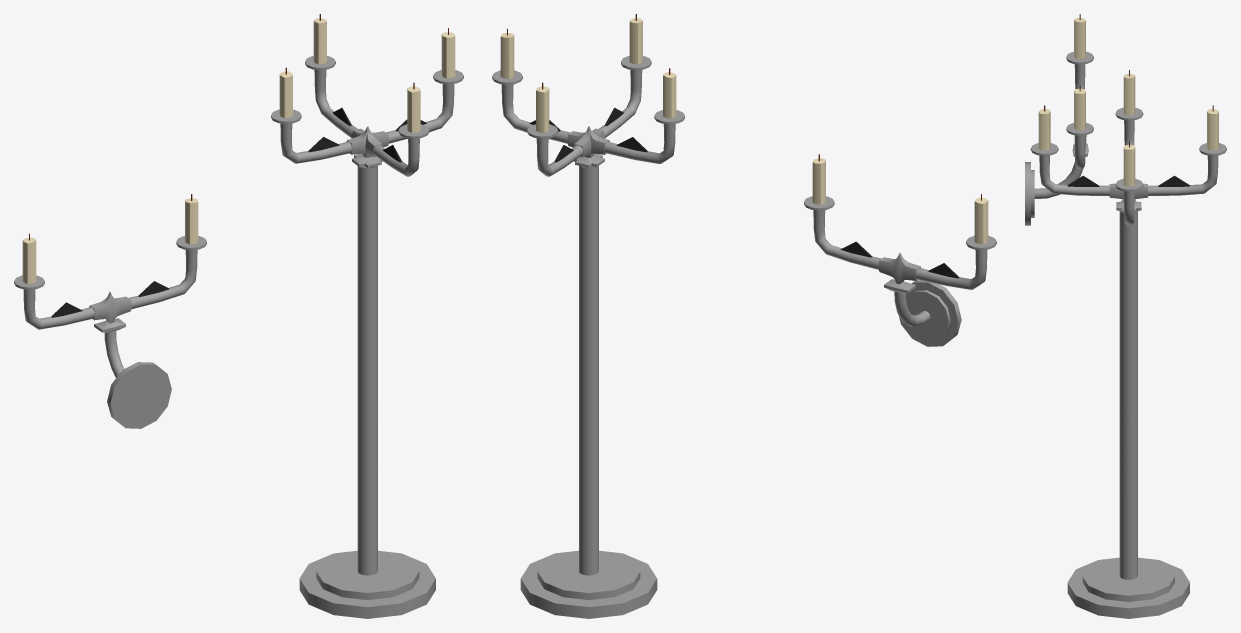
File: swiecznik2.FBX
3 renders of one model, left to right at view 1: azimuth 30°, elevation 25°; view 2: azimuth 150°, elevation 25°; view 3: azimuth 270°, elevation 25°, orthographic. The views are drawn at different scales.
Parts seen in each view (by area): view 1: Cylinder002, Cylinder005; view 2: Cylinder002, Cylinder005; view 3: Cylinder002, Cylinder005.
Part boxes in pixels (x1,y1,x2,y2): Cylinder002: (271,14,463,618); Cylinder005: (14,194,206,428); Cylinder002: (492,14,684,618); Cylinder005: (804,154,996,346); Cylinder002: (1030,70,1226,618); Cylinder005: (1025,14,1093,225).
Size of the model in its own units: 55.24 by 60.43 by 22.7.
1 material, 1 textured.
